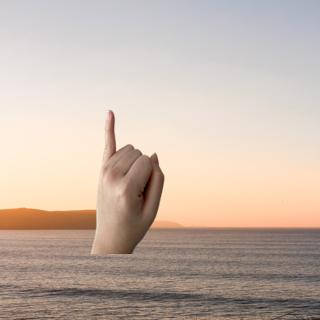Fine: (80, 109, 176, 256)
